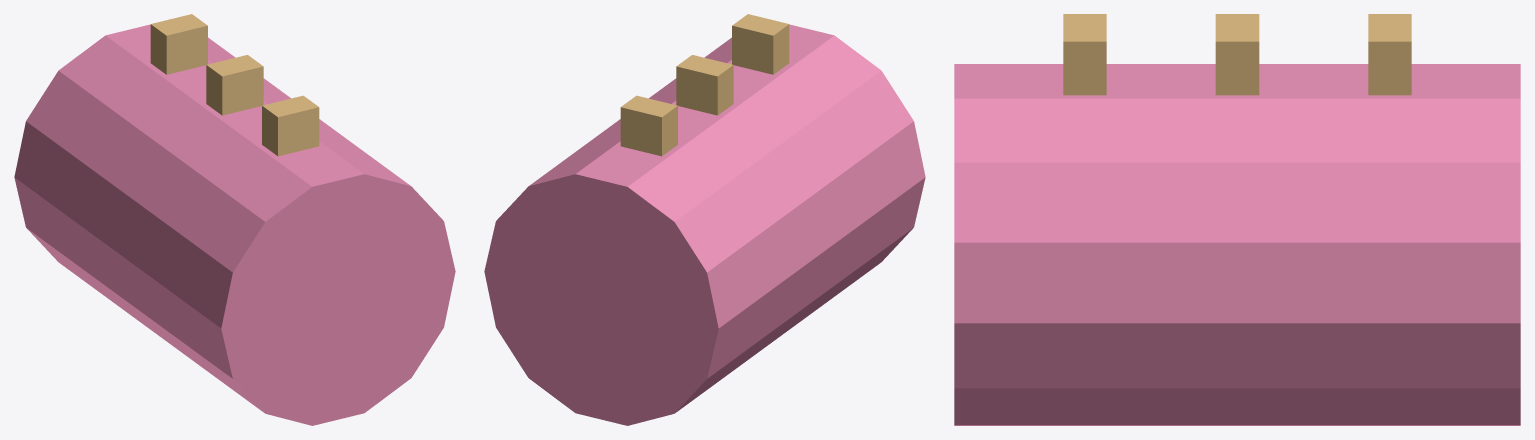
Rendered from Compensator.obj.
The picture shows the model from 3 angles, left to right: view 1: azimuth 30°, elevation 25°; view 2: azimuth 150°, elevation 25°; view 3: azimuth 270°, elevation 25°; orthographic projection. The views are drawn at different scales.
Visible parts, largest first — view 1: Compensator_Body, Compensator_Detail; view 2: Compensator_Body, Compensator_Detail; view 3: Compensator_Body, Compensator_Detail.
Boxes of the visible parts, x1,y1,x2,y2 form: Compensator_Body: [14, 24, 455, 425]; Compensator_Detail: [150, 14, 319, 156]; Compensator_Body: [484, 24, 925, 425]; Compensator_Detail: [620, 14, 789, 156]; Compensator_Body: [954, 64, 1520, 425]; Compensator_Detail: [1063, 14, 1411, 95].
Size of the model in its own units: 0.17 by 0.1929 by 0.26.
